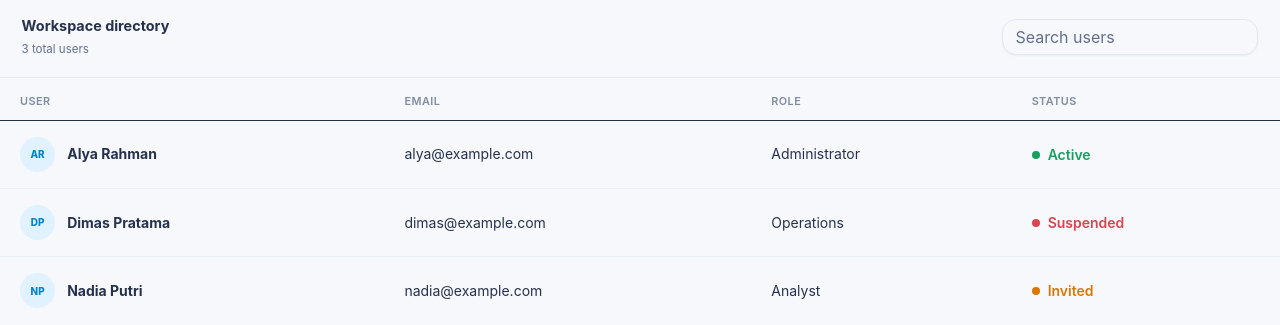
Test case: UsersDirectory › filters users by email
Type "dimas@example.com" into the search field labelled "Search users".
click(1130, 37); type("dimas@example.com")  # box x1=1002 y1=19 x2=1258 y2=55
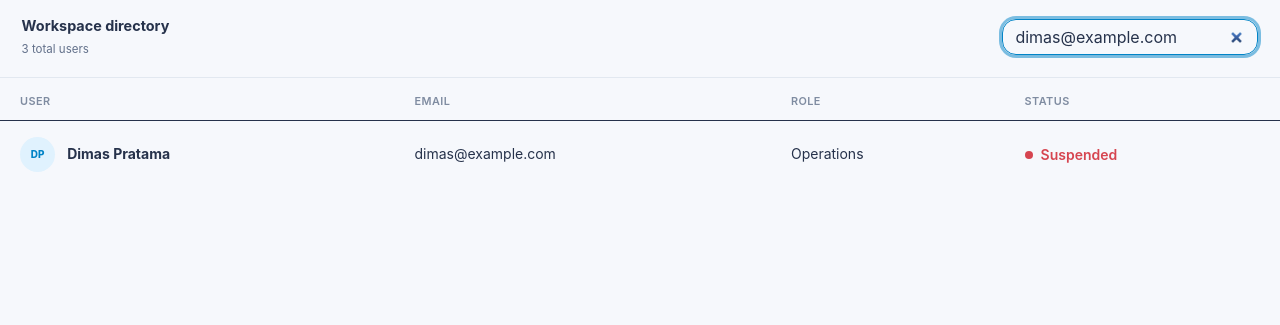
Expected: the cell "Dimas Pratama" is shown, x1=0 y1=121 x2=394 y2=188
Expected: the text "Nadia Putri" is gone
